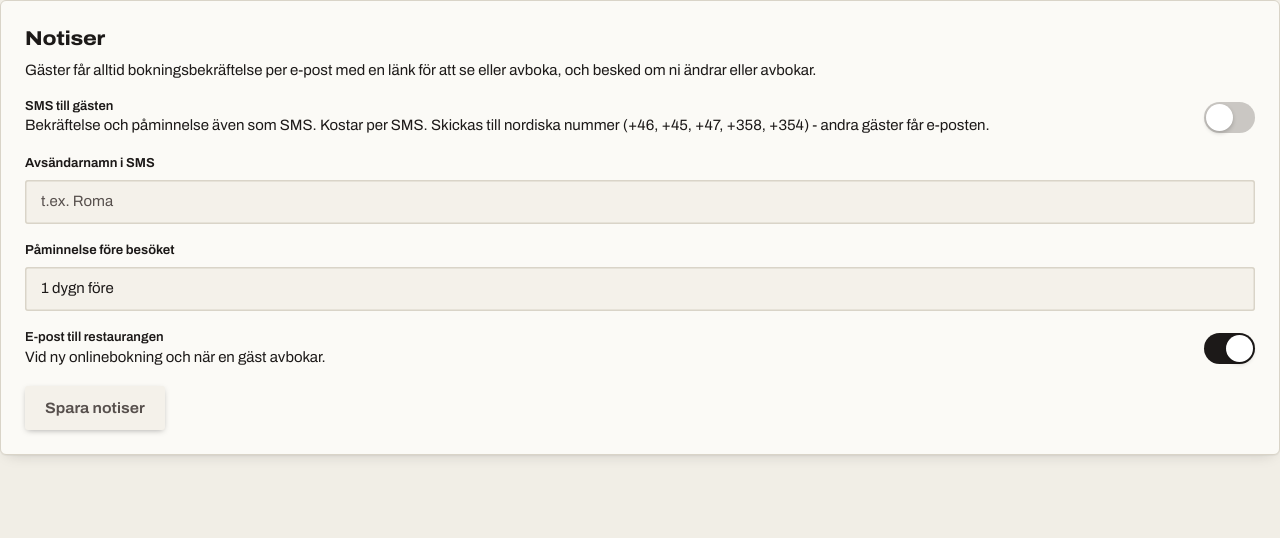
Test case: NotificationsCard › requires a sender name before turning SMS on
Click the switch named "SMS till gästen" in the row of "SMS till gästen" at (1230, 117), box [1204,102,1255,133]
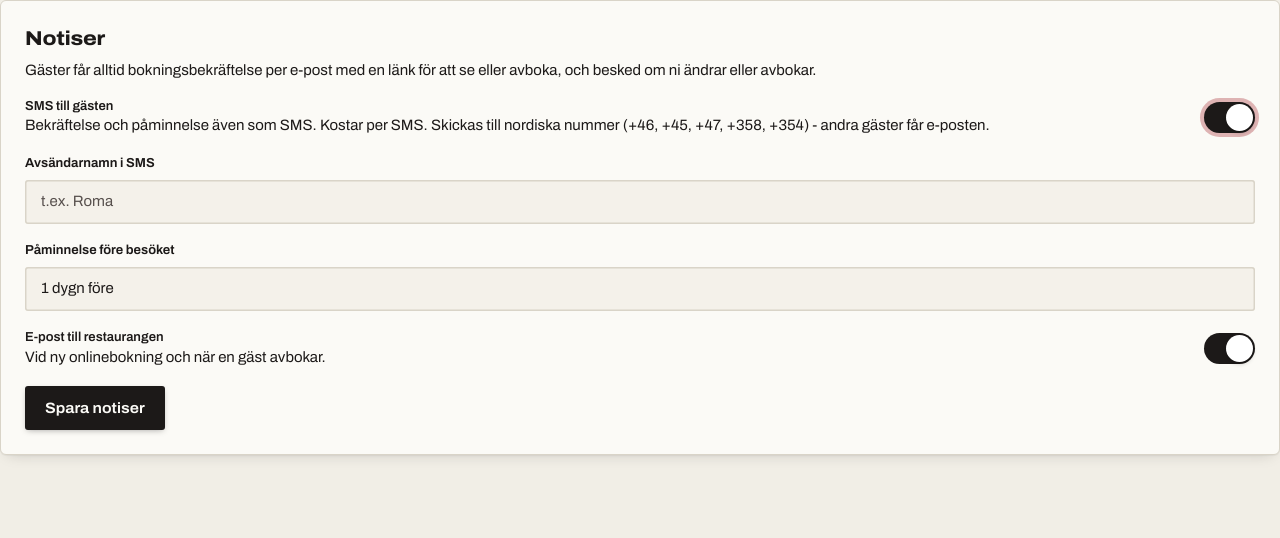
Click the button "Spara notiser" at (95, 408), box [25,386,165,430]
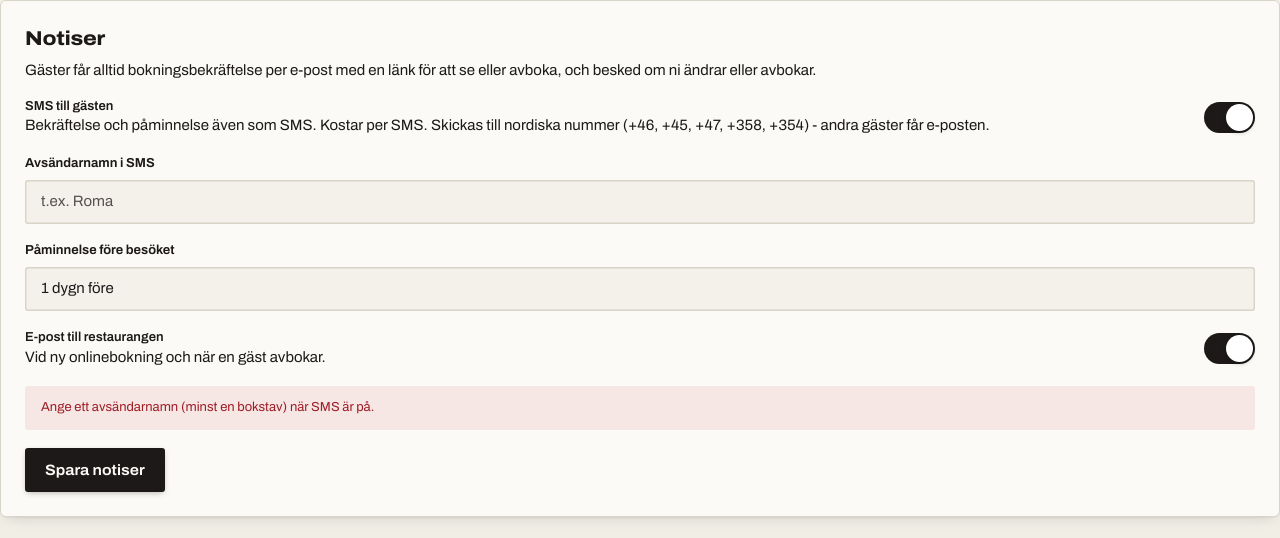
Check: the message shows "Ange ett avsändarnamn", box [41,400,374,414]
